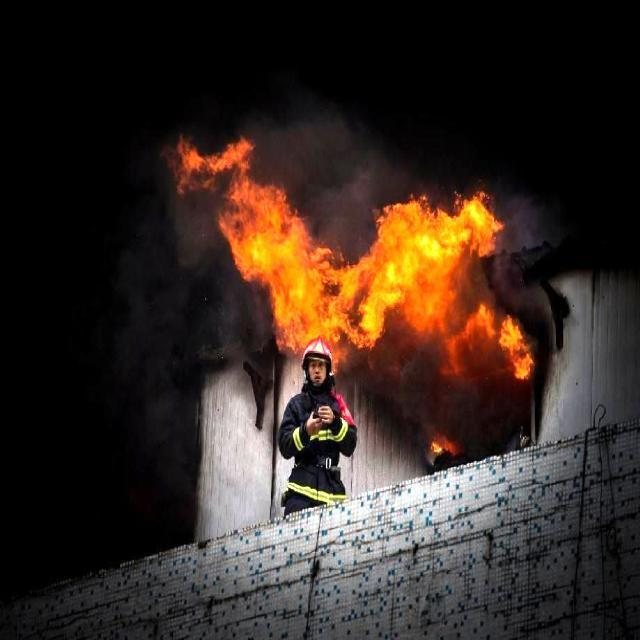Fire: (182, 143, 537, 380)
Smoke: (14, 3, 614, 284), (8, 6, 190, 551)
